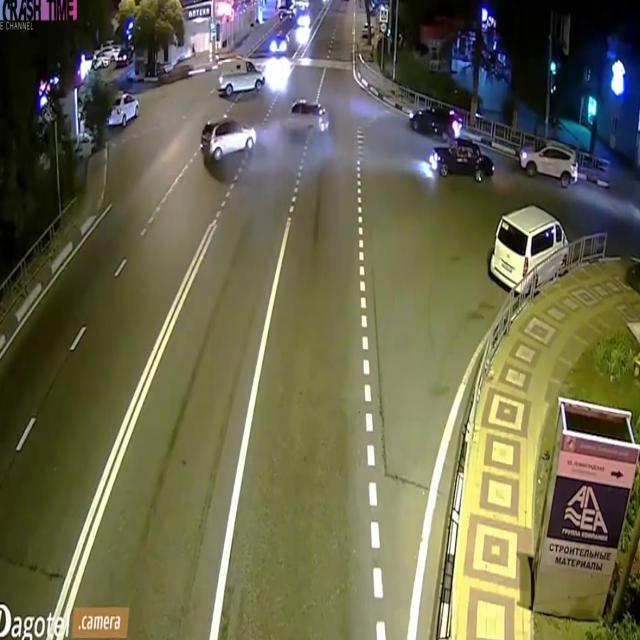accident: (198, 95, 334, 177), (405, 92, 500, 188)
